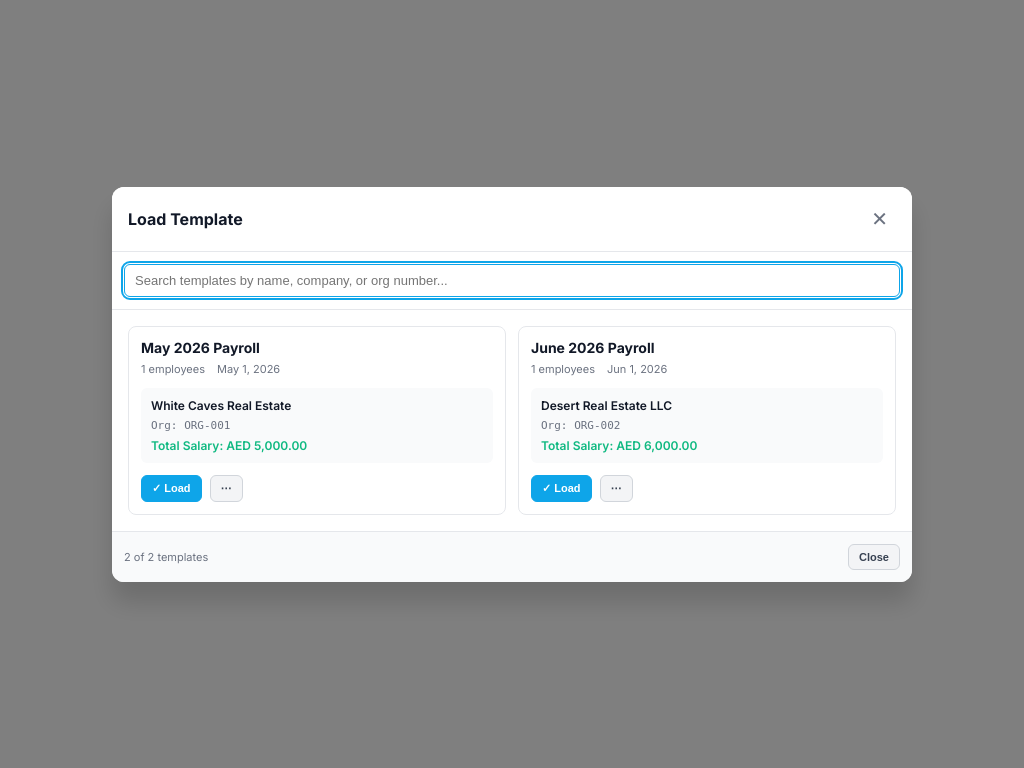
Test: TemplateSelectorModal — search filtering › filters templates by name (case-insensitive)
In the field: (512, 280) [124,264,900,296], type "may"
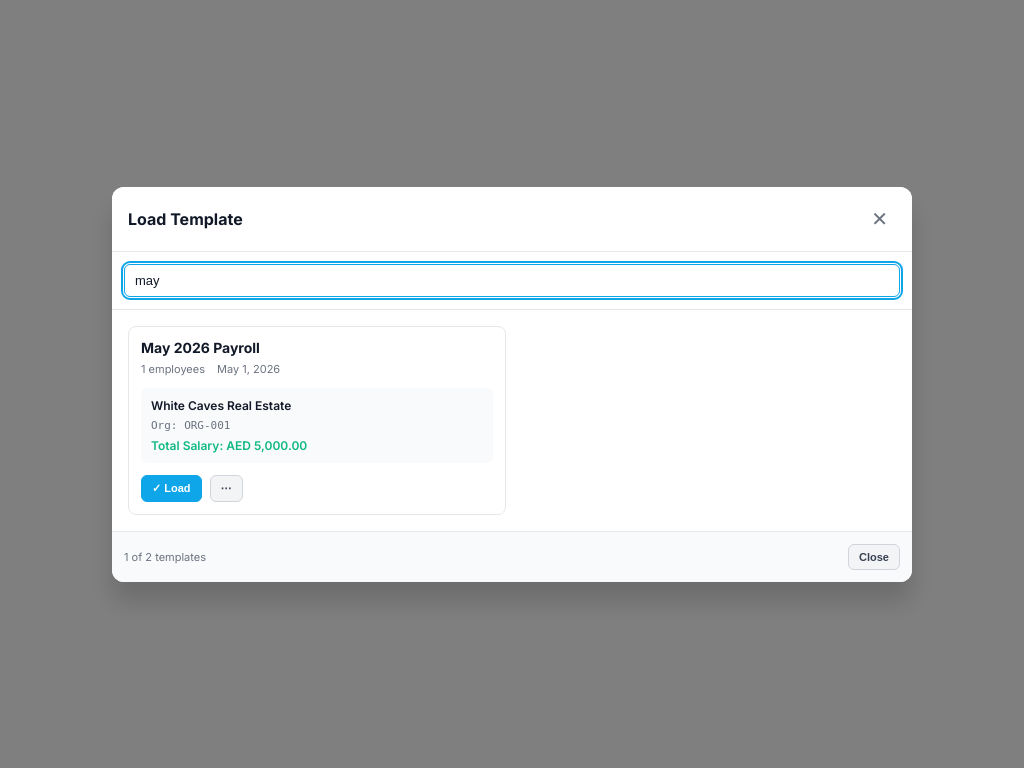
Check: the text "May 2026 Payroll" is shown, box [141,338,260,356]
Check: the text "June 2026 Payroll" is gone
